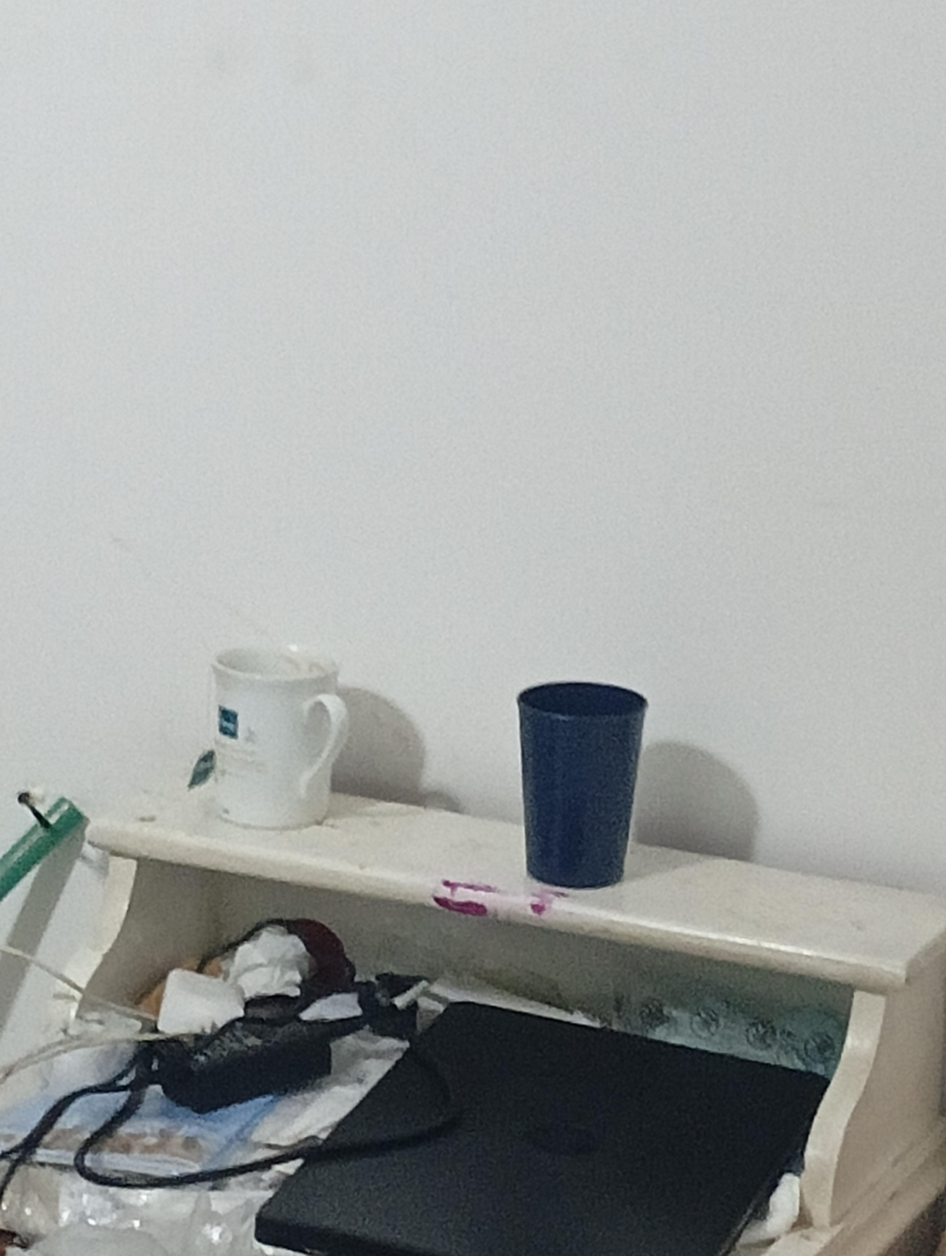cup: (518, 682, 647, 888), (212, 646, 348, 828)
